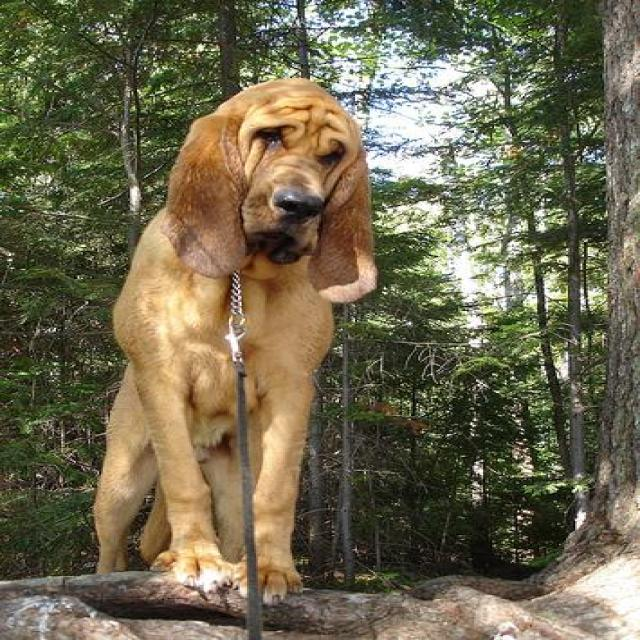bloodhound: (92, 78, 379, 603)
